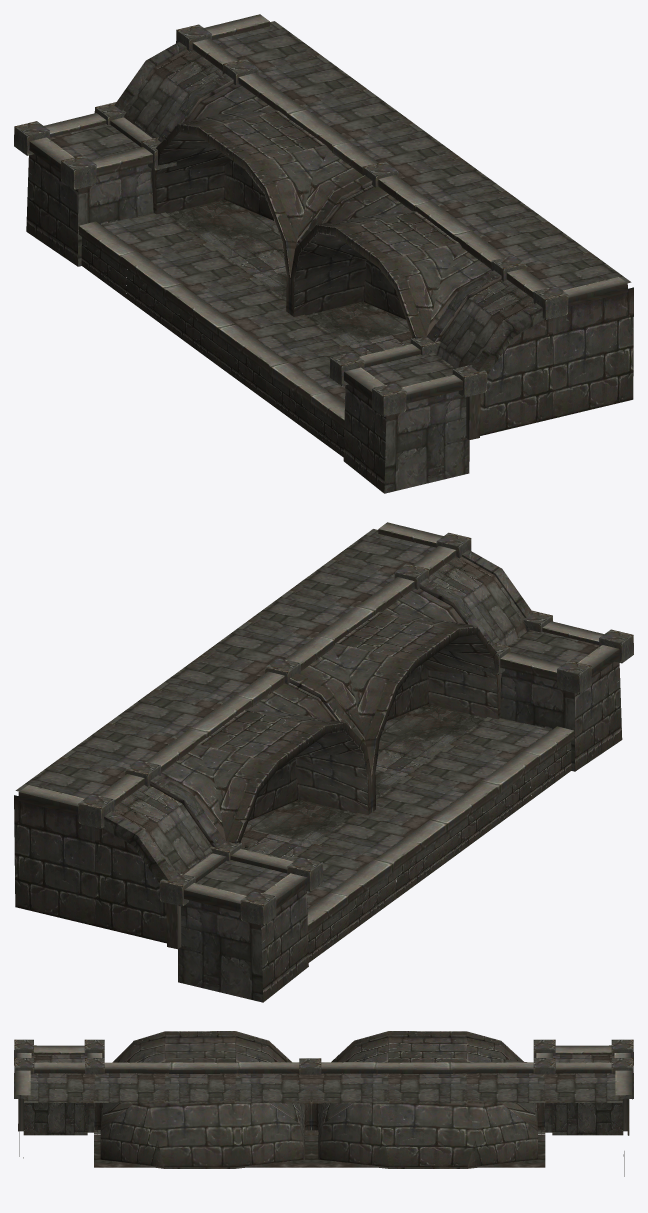
The model's file is h5_building_04.FBX.
3 views of the same model, one above another, from view 1: azimuth 30°, elevation 25°; view 2: azimuth 150°, elevation 25°; view 3: azimuth 270°, elevation 25° (orthographic). The views are drawn at different scales.
Visible parts, largest first — view 1: h5_building_04; view 2: h5_building_04; view 3: h5_building_04.
Boxes of the visible parts, x1=… form: h5_building_04: x1=14, y1=14, x2=633, y2=493; h5_building_04: x1=14, y1=522, x2=633, y2=1002; h5_building_04: x1=14, y1=1031, x2=633, y2=1176.
Size of the model in its own units: 9.5 by 5.72 by 23.93.
